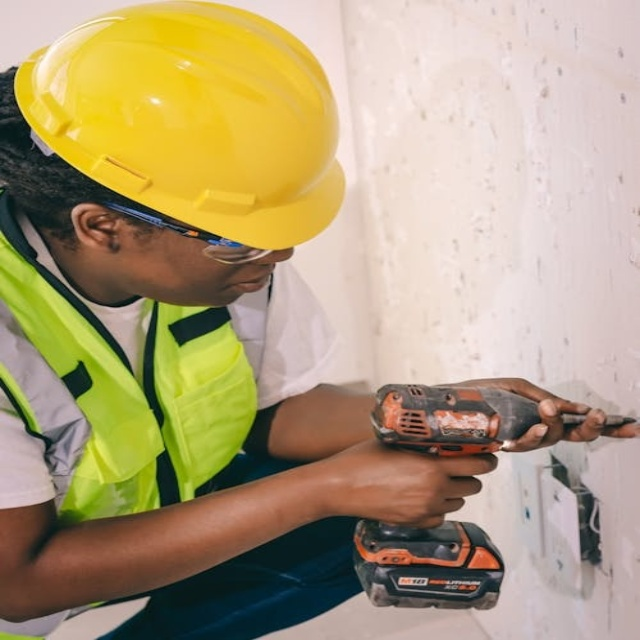Gafas: (96, 200, 279, 270)
Sin_guantes: (325, 439, 500, 528), (453, 378, 638, 455)
Sin_mascara: (196, 271, 279, 303)
